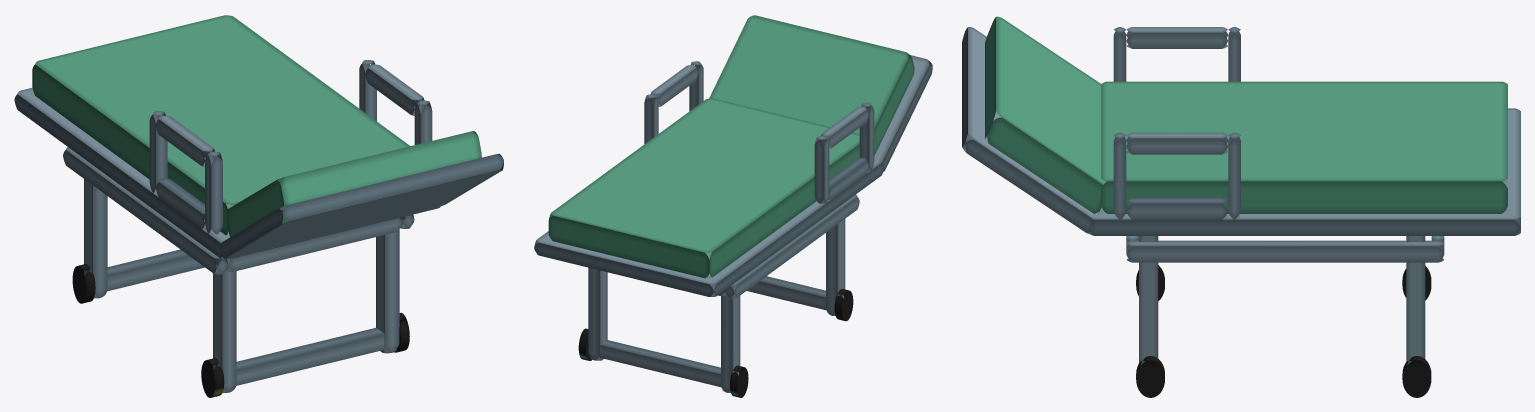
File: maca_hospital.obj
3 views of the same model, side by side, from view 1: azimuth 30°, elevation 25°; view 2: azimuth 150°, elevation 25°; view 3: azimuth 270°, elevation 25° (orthographic). The views are drawn at different scales.
Visible parts, largest first — view 1: ochão, ferro1, suporte_cabeça, cube.020, ferro_rodas_2, cube.021, perna.000, perna, cube.024, perna.001, ferro_rodas, cube.027 (+8 smaller); view 2: ochão, suporte_cabeça, cube.020, ferro_rodas, cube.021, ferro1, perna.001, perna2, perna, ferro_rodas_2, cube.026, cube.029 (+7 smaller); view 3: ochão, suporte_cabeça, cube.020, cube.022, ferro1, cube.029, cube.012.000, cube.028, perna2, perna.000, cube.031, cube.030 (+4 smaller).
Part boxes in pixels (x1,y1,x2,y2): ochão: (32,15,410,235); ferro1: (220,153,503,258); suporte_cabeça: (226,131,481,236); cube.020: (14,87,440,259); ferro_rodas_2: (235,328,385,385); cube.021: (63,147,228,274); perna.000: (376,230,399,353); perna: (213,258,236,392); cube.024: (224,217,402,271); perna.001: (84,179,107,298); ferro_rodas: (106,249,204,291); cube.027: (205,151,222,234); ochão: (548,98,859,278); suporte_cabeça: (709,15,914,155); cube.020: (534,160,884,296); ferro_rodas: (599,340,721,387); cube.021: (725,194,859,298); ferro1: (874,55,932,171); perna.001: (721,285,740,392); perna2: (588,267,607,360); perna: (826,219,845,315); ferro_rodas_2: (747,276,826,310); cube.026: (814,136,829,203); cube.029: (649,65,698,106); ochão: (1101,81,1507,213); suporte_cabeça: (985,16,1106,213); cube.020: (1088,108,1520,235); cube.022: (1126,240,1444,262); ferro1: (962,27,1094,233); cube.029: (1126,132,1227,154); cube.012.000: (1126,197,1227,219); cube.028: (1126,27,1227,48); perna2: (1406,236,1425,365); perna.000: (1139,236,1158,365); cube.031: (1113,132,1126,219); cube.030: (1228,132,1240,219).
Size of the model in its own units: 0.9194 by 1.09 by 1.94.
